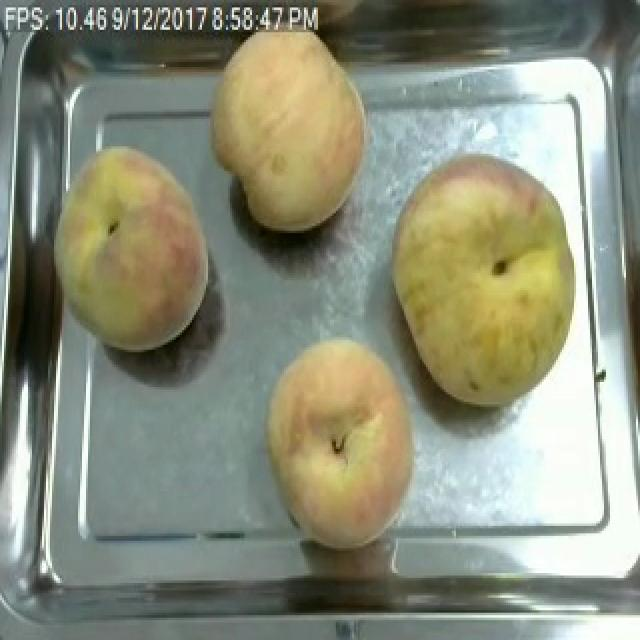Fruit: (380, 146, 596, 417), (198, 10, 382, 241), (38, 134, 220, 362), (256, 330, 428, 556)
